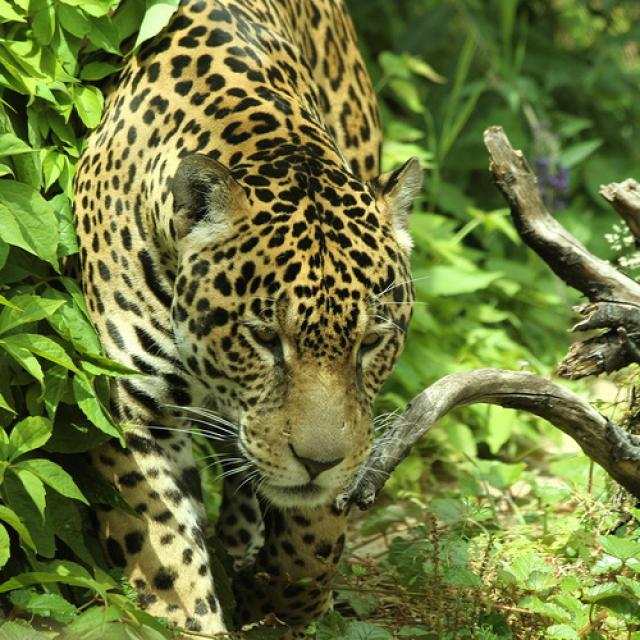Leopard: (65, 0, 428, 636)
